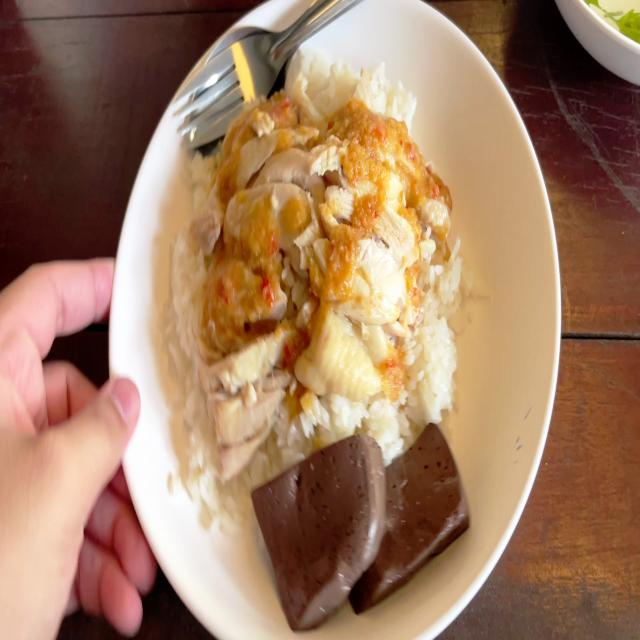boiled_chicken: (210, 97, 412, 414)
boiled_chicken_blood_jelly: (258, 438, 382, 623), (351, 422, 462, 587)
chicken_rice: (160, 60, 478, 618)
